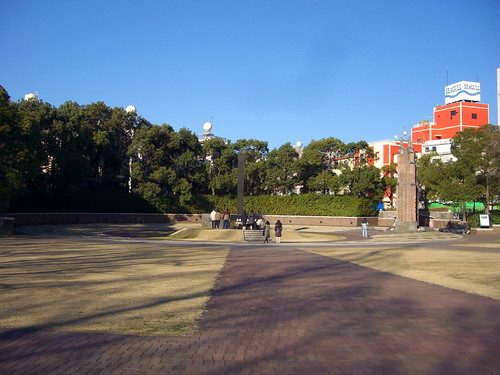building: (406, 77, 490, 168)
sky: (1, 1, 500, 117)
vegetation: (1, 94, 498, 220)
